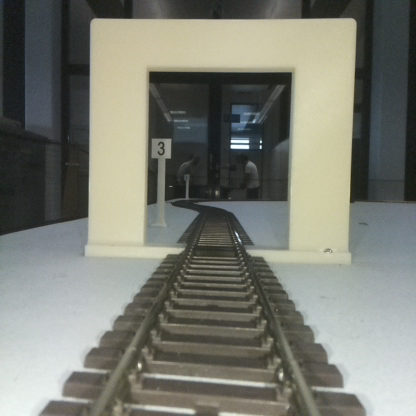white-info-3: (151, 138, 171, 225)
